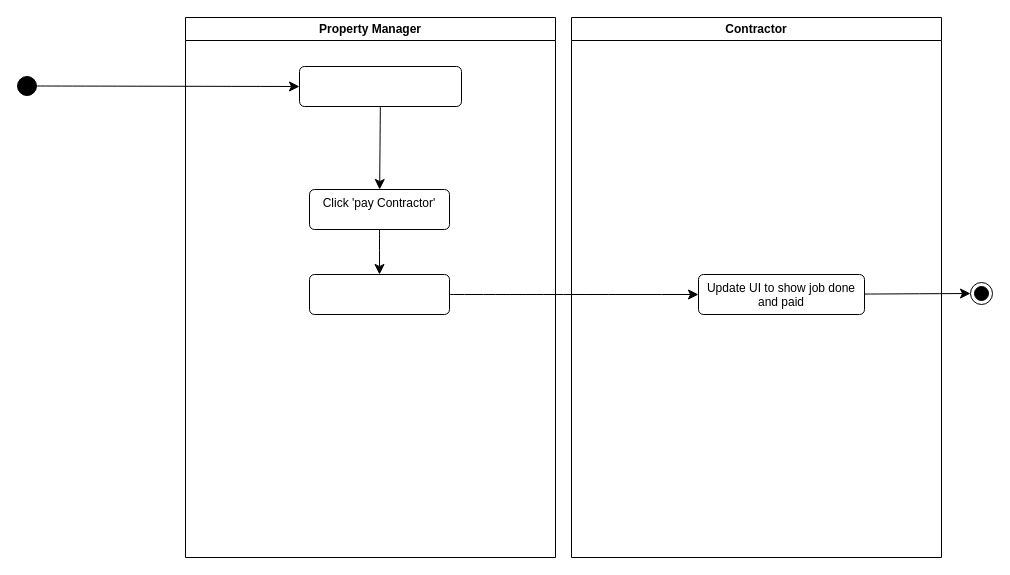
The diagram is 1010 pixels wide and 575 high, and some of its shapes have lost their labels. The centre of each missing label's shape, as x and y in pixels:
"Set job as 'done'" belongs at point 379,294.
"View Detailed Page When Surveys Are Done" belongs at point 380,86.
